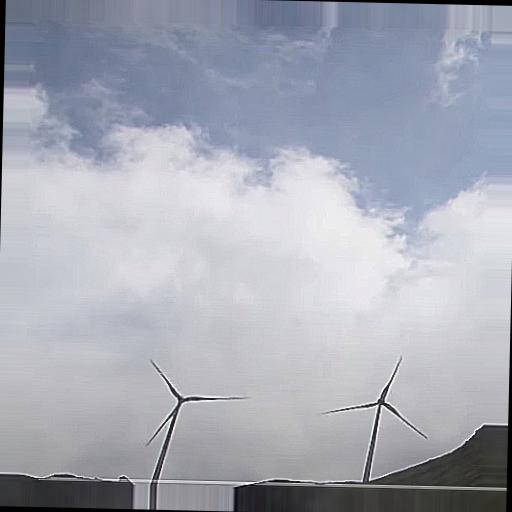wind turbine: (317, 355, 429, 488), (143, 359, 253, 485)
